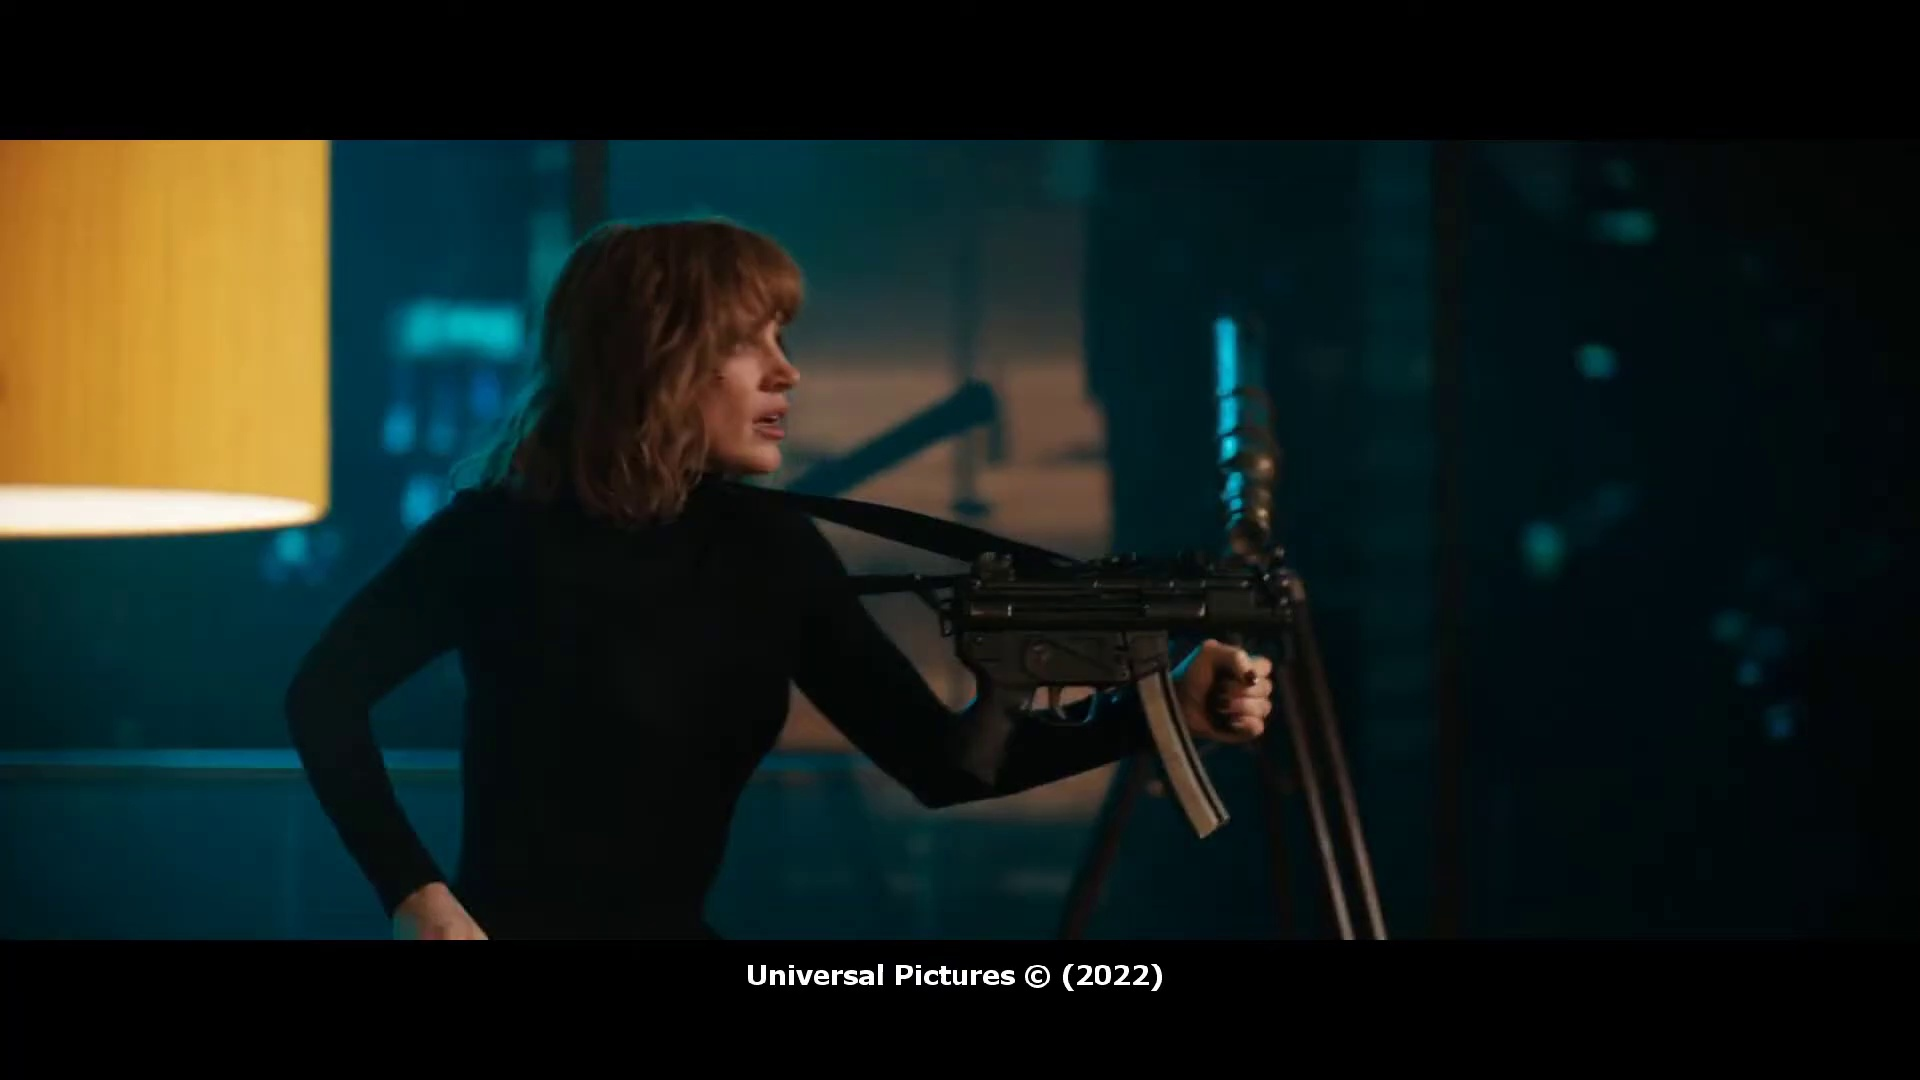gun: (843, 541, 1316, 849)
p_w_gun: (277, 211, 1313, 943)
